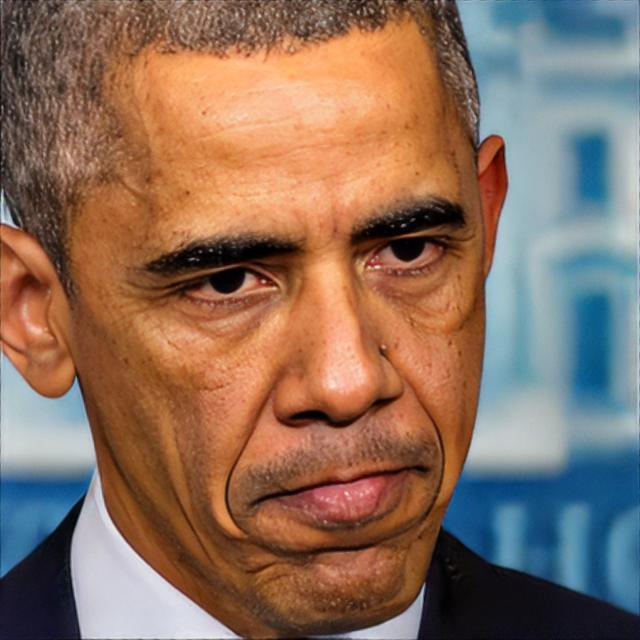anger: (84, 32, 488, 620)
